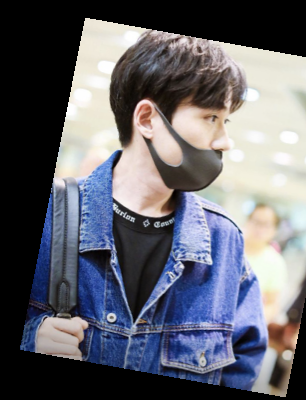mask_weared_incorrect: (111, 19, 258, 198)
